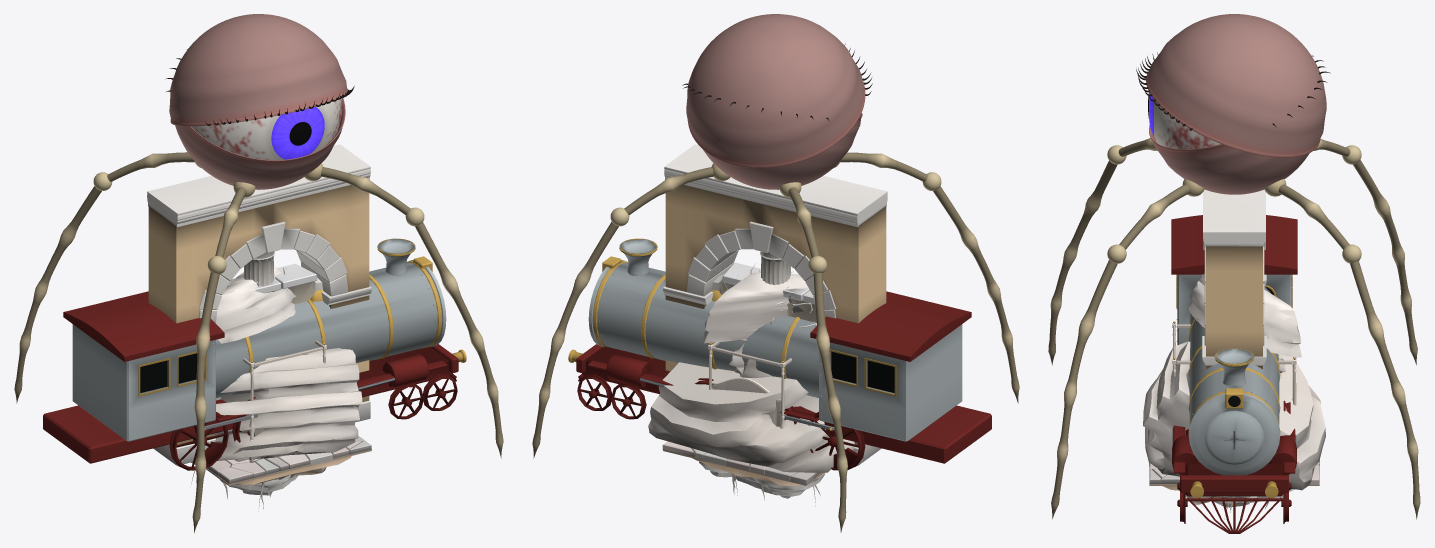
Rendered from props.glb.
3 views of the same model, side by side, from view 1: azimuth 30°, elevation 25°; view 2: azimuth 150°, elevation 25°; view 3: azimuth 270°, elevation 25° (orthographic). The views are drawn at different scales.
Visible parts, largest first — view 1: Train, Arch, UW_LidTop, Rock_B, UW_LidBottom, Platform, Rock_A, UW_Body, UW_Leg2_Lower, UW_Leg3_Lower, UW_Leg1_Lower, UW_Iris (+5 smaller); view 2: Train, Arch, UW_LidTop, Rock_B, Rock_A, Platform, UW_LidBottom, UW_Leg1_Lower, UW_Leg0_Lower, UW_Leg2_Lower, Bed, UW_Leg0 (+3 smaller); view 3: Train, UW_LidTop, Arch, Rock_B, UW_LidBottom, UW_Leg3_Lower, UW_Leg0_Lower, Rock_A, UW_Leg2_Lower, UW_Leg1_Lower, UW_Body, Platform (+3 smaller).
Part boxes in pixels (<box>): Train: <box>43,238,466,470</box>; Arch: <box>147,144,371,465</box>; UW_LidTop: <box>169,14,354,126</box>; Rock_B: <box>210,348,362,460</box>; UW_LidBottom: <box>165,49,345,189</box>; Platform: <box>191,436,371,511</box>; Rock_A: <box>215,266,295,461</box>; UW_Body: <box>191,98,342,160</box>; UW_Leg2_Lower: <box>192,256,226,533</box>; UW_Leg3_Lower: <box>405,207,503,458</box>; UW_Leg1_Lower: <box>14,172,112,403</box>; UW_Iris: <box>271,106,324,159</box>; Train: <box>568,238,991,470</box>; Arch: <box>663,144,887,465</box>; UW_LidTop: <box>686,14,872,167</box>; Rock_B: <box>648,362,854,472</box>; Rock_A: <box>703,272,808,377</box>; Platform: <box>662,441,825,505</box>; UW_LidBottom: <box>682,83,862,189</box>; UW_Leg1_Lower: <box>808,256,847,532</box>; UW_Leg0_Lower: <box>532,207,629,458</box>; UW_Leg2_Lower: <box>922,172,1019,403</box>; Bed: <box>708,342,791,428</box>; UW_Leg0: <box>624,163,730,215</box>; Train: <box>1171,215,1297,533</box>; UW_LidTop: <box>1136,14,1326,157</box>; Arch: <box>1202,189,1266,369</box>; Rock_B: <box>1143,341,1325,490</box>; UW_LidBottom: <box>1149,55,1330,194</box>; UW_Leg3_Lower: <box>1051,244,1126,519</box>; UW_Leg0_Lower: <box>1342,244,1420,519</box>; Rock_A: <box>1189,273,1301,381</box>; UW_Leg2_Lower: <box>1048,145,1126,365</box>; UW_Leg1_Lower: <box>1342,145,1417,365</box>; UW_Body: <box>1154,101,1220,149</box>; Platform: <box>1149,459,1319,519</box>.
Size of the model in its own units: 8.02 by 9.28 by 6.49.
